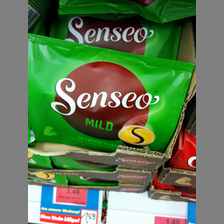coffee: (28, 32, 195, 155)
